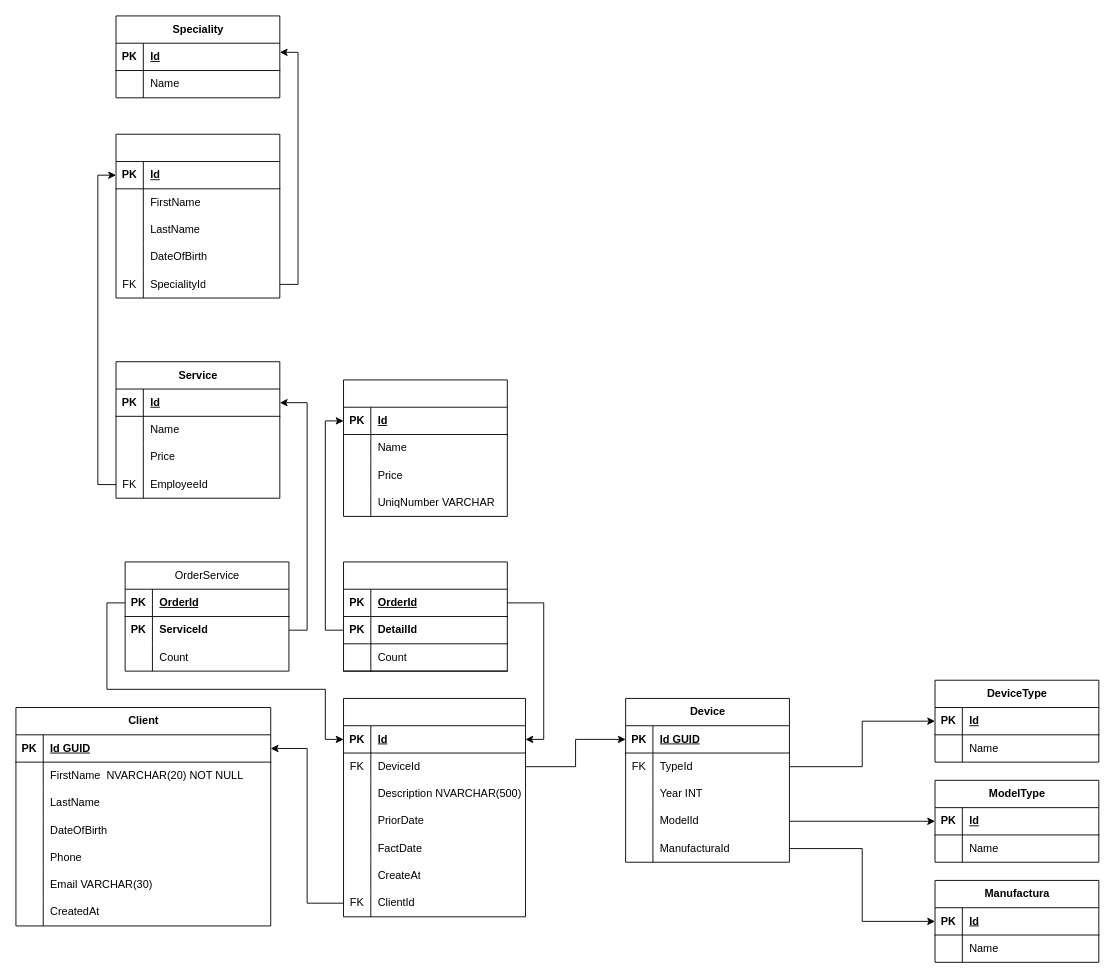
Image size: 1115x978. Some labels were removed from this diagram. The shapes that lost their labels are listed below. From the top down, each one's box as (x1, y1, x2, y2) in pixels, then its label:
(115, 133, 280, 298): Employees
(343, 379, 507, 516): Detail
(343, 561, 507, 671): OrderDetails
(343, 698, 526, 917): Order
